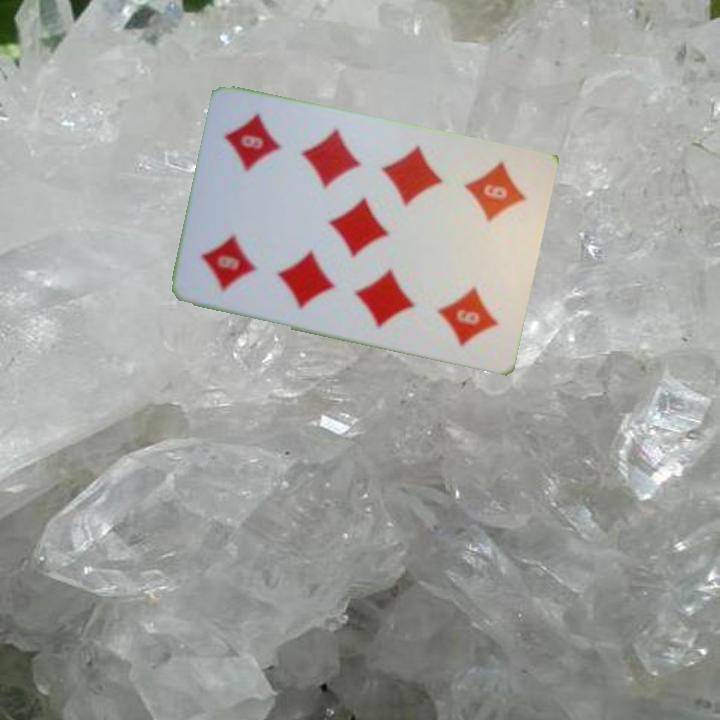d_9.png: (185, 192, 289, 307), (436, 150, 540, 265)
